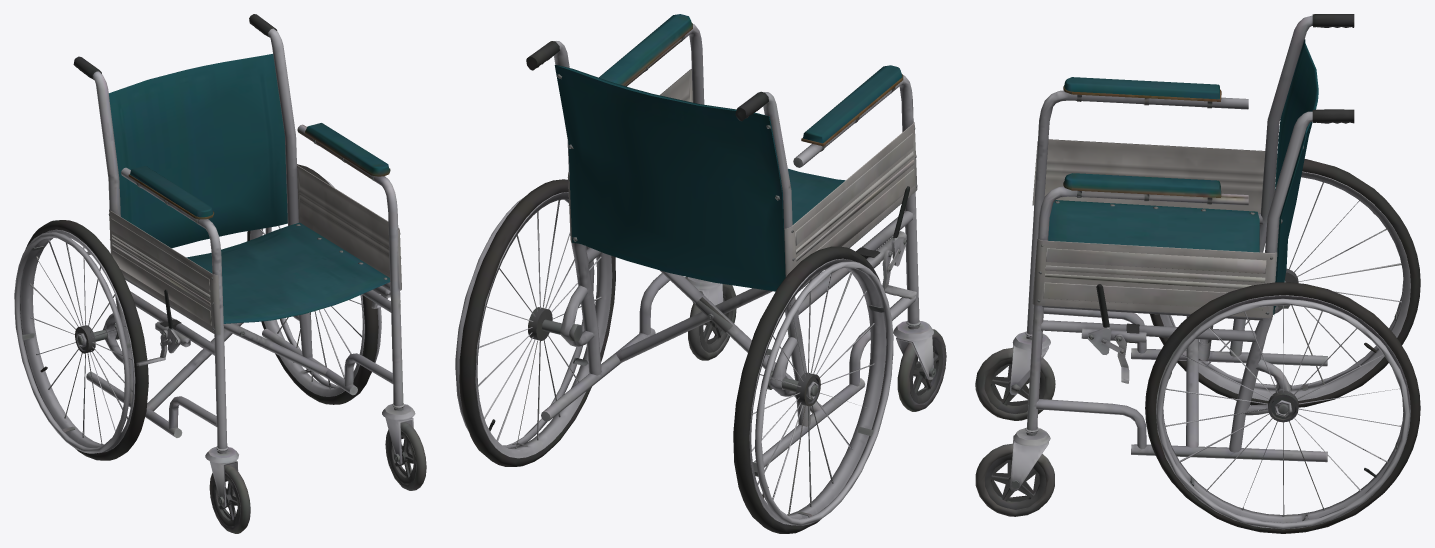
Rendered from wheelchair_01.glb.
3 views of the same model, side by side, from view 1: azimuth 30°, elevation 25°; view 2: azimuth 150°, elevation 25°; view 3: azimuth 270°, elevation 25° (orthographic). The views are drawn at different scales.
Visible parts, largest first — view 1: wheelchair_01; view 2: wheelchair_01; view 3: wheelchair_01.
Boxes of the visible parts, left/top/right/bottom form: wheelchair_01: left=14, top=14, right=426, bottom=533; wheelchair_01: left=455, top=14, right=946, bottom=533; wheelchair_01: left=975, top=14, right=1420, bottom=533.
Bounding box in the file's own units: 0.824 × 1.1 × 1.09.
Materials: 1 (1 with a texture image).
